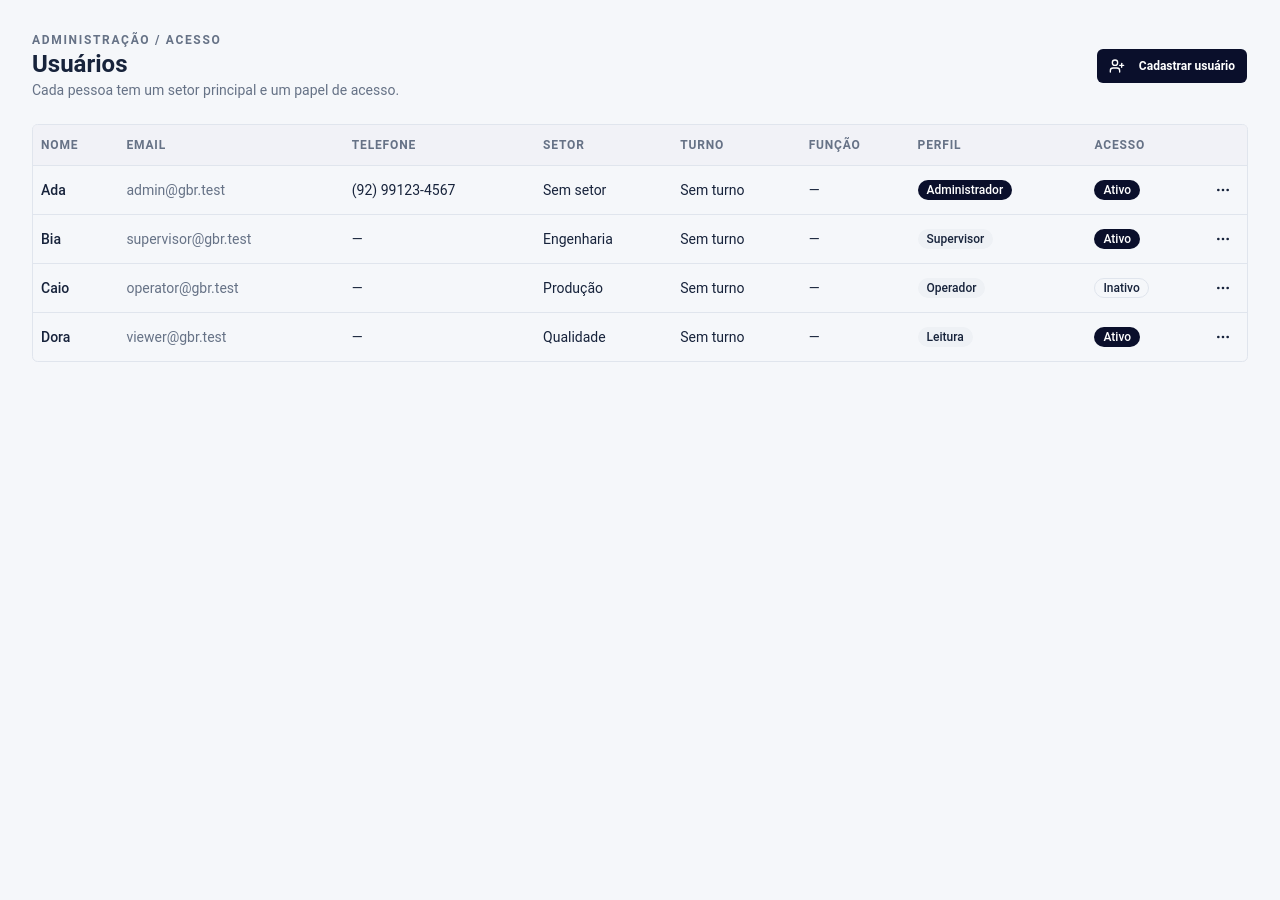
Test: UsersPage › abre permissões derivadas do papel da pessoa selecionada
The image size is (1280, 900).
Click the button named "Ações" in the row of "Dora". click: (1223, 336)
box: top-left (1207, 320), bottom-right (1239, 352)
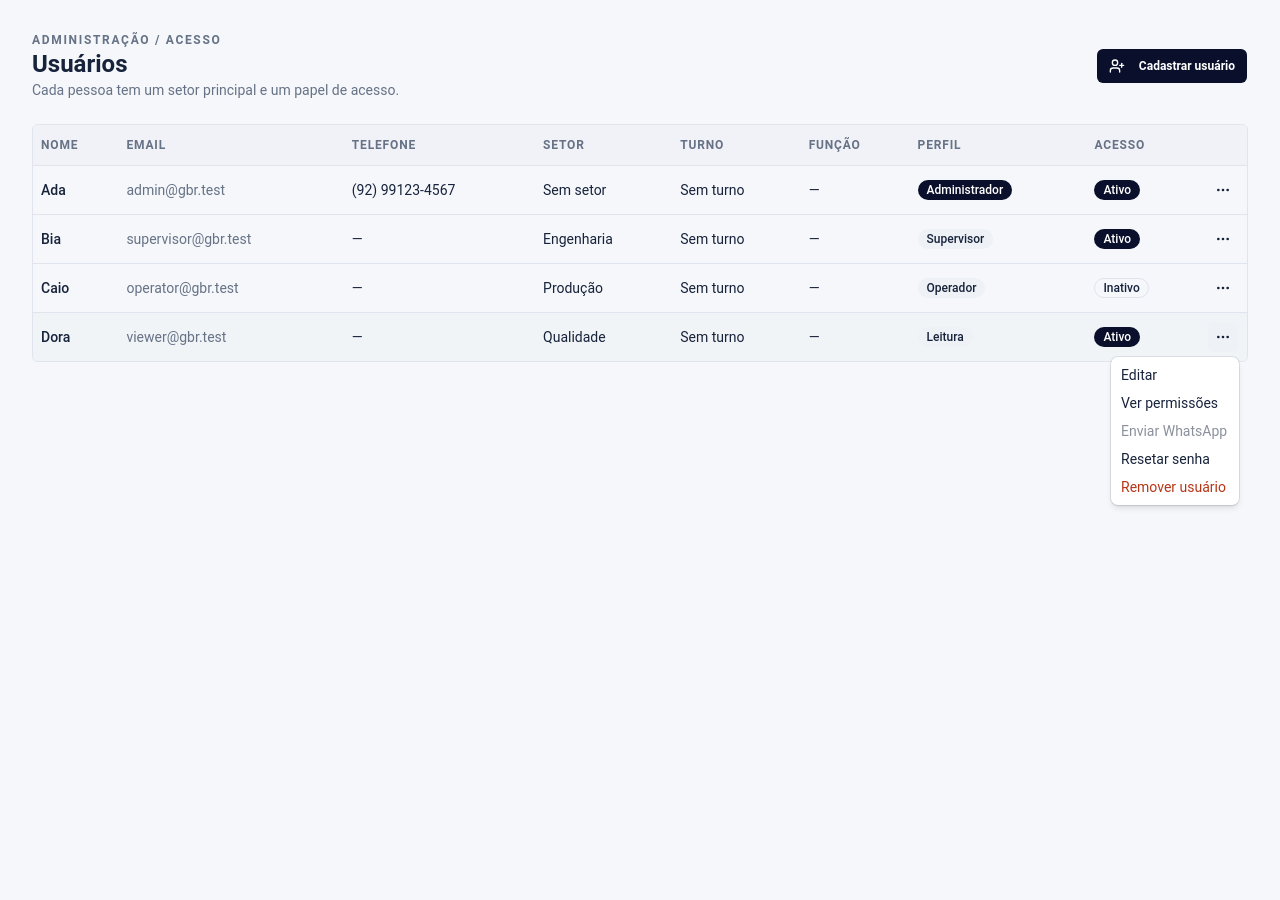
Click the menu item "Ver permissões". click: (1170, 403)
box: top-left (1121, 395), bottom-right (1218, 411)
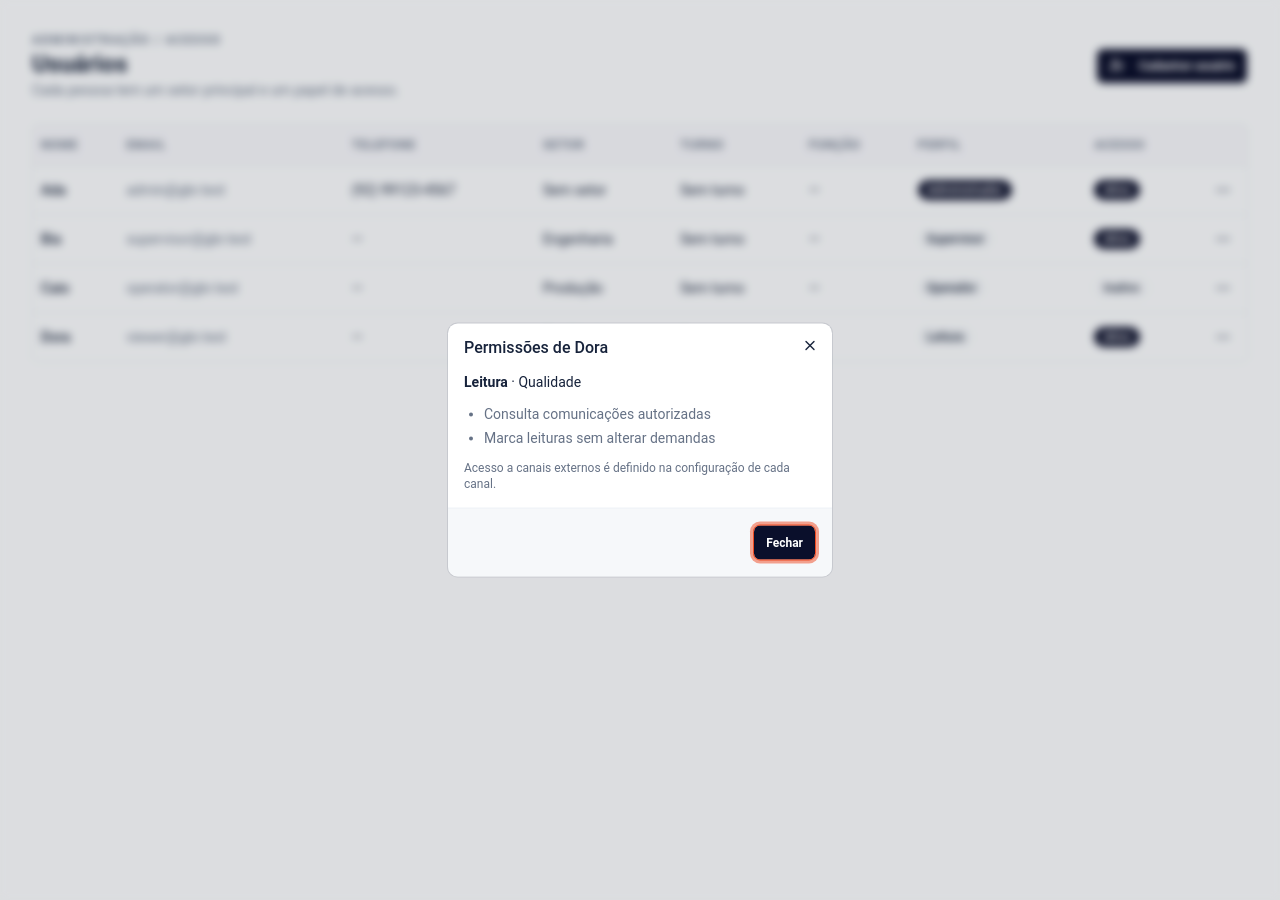
Check: the dialog shows "Permissões de Dora", box top-left (448, 324), bottom-right (832, 576)
Check: the dialog shows "Consulta comunicações autorizadas", box top-left (484, 406), bottom-right (711, 422)
Check: the dialog shows "Qualidade", box top-left (518, 374), bottom-right (581, 390)
